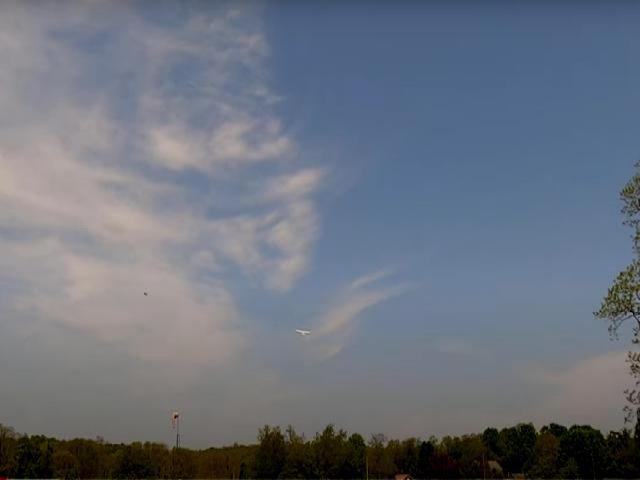iha: (293, 326, 312, 338)
